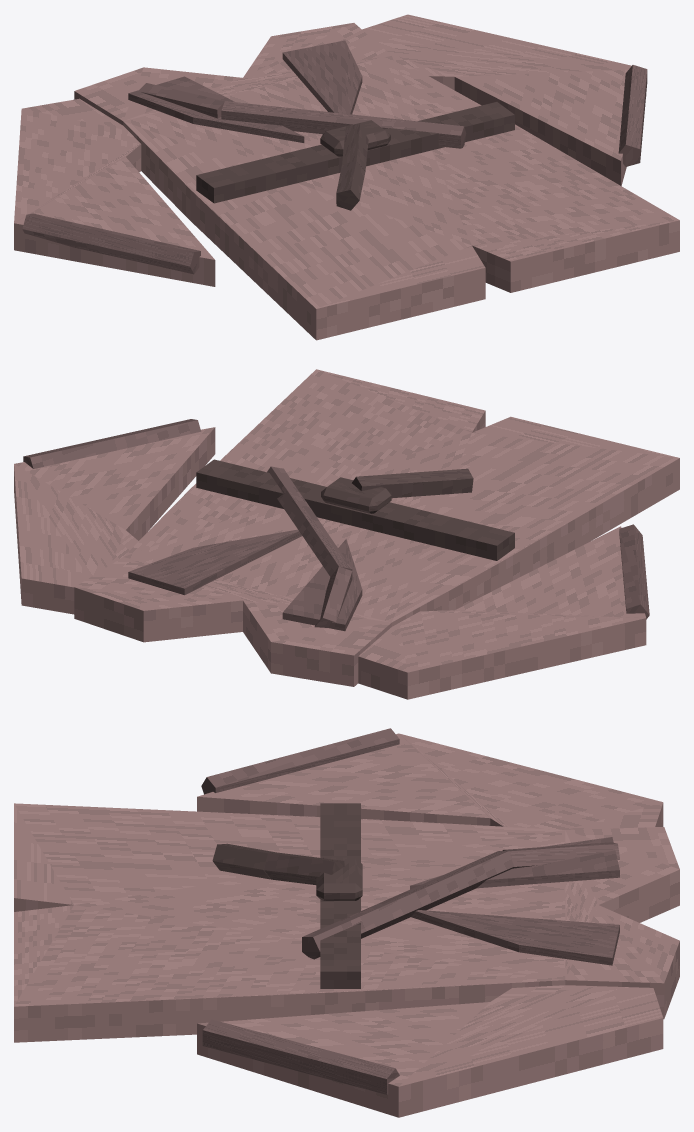
File: house_coat.glb
3 views of the same model, one above another, from view 1: azimuth 30°, elevation 25°; view 2: azimuth 150°, elevation 25°; view 3: azimuth 270°, elevation 25° (orthographic). The views are drawn at different scales.
Visible parts, largest first — view 1: block_coat body, block_sleeve (×2), block_tied sash, block_lapel (×2), block_cuff 0 (×2), block_crossed lapel 1, block_crossed lapel 0, block_sash knot, block_sash ends 1, block_sash ends 0; view 2: block_coat body, block_sleeve (×2), block_tied sash, block_lapel (×2), block_cuff 0 (×2), block_crossed lapel 1, block_sash knot, block_sash ends 0, block_sash ends 1, block_crossed lapel 0; view 3: block_coat body, block_sleeve (×2), block_lapel (×2), block_cuff 0 (×2), block_tied sash, block_crossed lapel 1, block_sash ends 0, block_crossed lapel 0, block_sash knot, block_sash ends 1.
Part boxes in pixels (bbox=[...]): block_coat body: bbox=[74, 23, 679, 340]; block_sleeve (×2): bbox=[14, 14, 646, 286]; block_tied sash: bbox=[196, 102, 514, 203]; block_lapel (×2): bbox=[128, 40, 362, 142]; block_cuff 0 (×2): bbox=[22, 65, 647, 274]; block_crossed lapel 1: bbox=[221, 101, 466, 148]; block_crossed lapel 0: bbox=[138, 83, 224, 118]; block_sash knot: bbox=[320, 120, 390, 156]; block_sash ends 1: bbox=[336, 161, 365, 210]; block_sash ends 0: bbox=[342, 123, 368, 171]; block_coat body: bbox=[74, 369, 679, 686]; block_sleeve (×2): bbox=[14, 427, 646, 699]; block_tied sash: bbox=[196, 459, 514, 560]; block_lapel (×2): bbox=[128, 529, 362, 631]; block_cuff 0 (×2): bbox=[23, 419, 649, 619]; block_crossed lapel 1: bbox=[267, 466, 352, 576]; block_sash knot: bbox=[321, 477, 391, 513]; block_sash ends 0: bbox=[352, 472, 423, 498]; block_sash ends 1: bbox=[418, 468, 473, 495]; block_crossed lapel 0: bbox=[314, 566, 352, 627]; block_coat body: bbox=[14, 803, 679, 1042]; block_sleeve (×2): bbox=[197, 733, 663, 1117]; block_lapel (×2): bbox=[410, 837, 619, 965]; block_cuff 0 (×2): bbox=[201, 728, 399, 1094]; block_tied sash: bbox=[320, 803, 360, 988]; block_crossed lapel 1: bbox=[302, 851, 514, 959]; block_sash ends 0: bbox=[264, 852, 344, 884]; block_crossed lapel 0: bbox=[502, 842, 619, 868]; block_sash knot: bbox=[316, 857, 362, 900]; block_sash ends 1: bbox=[212, 843, 276, 879].
Bounding box in the file's own units: 0.5985 × 0.0636 × 0.4767.
1 material, 1 textured.
